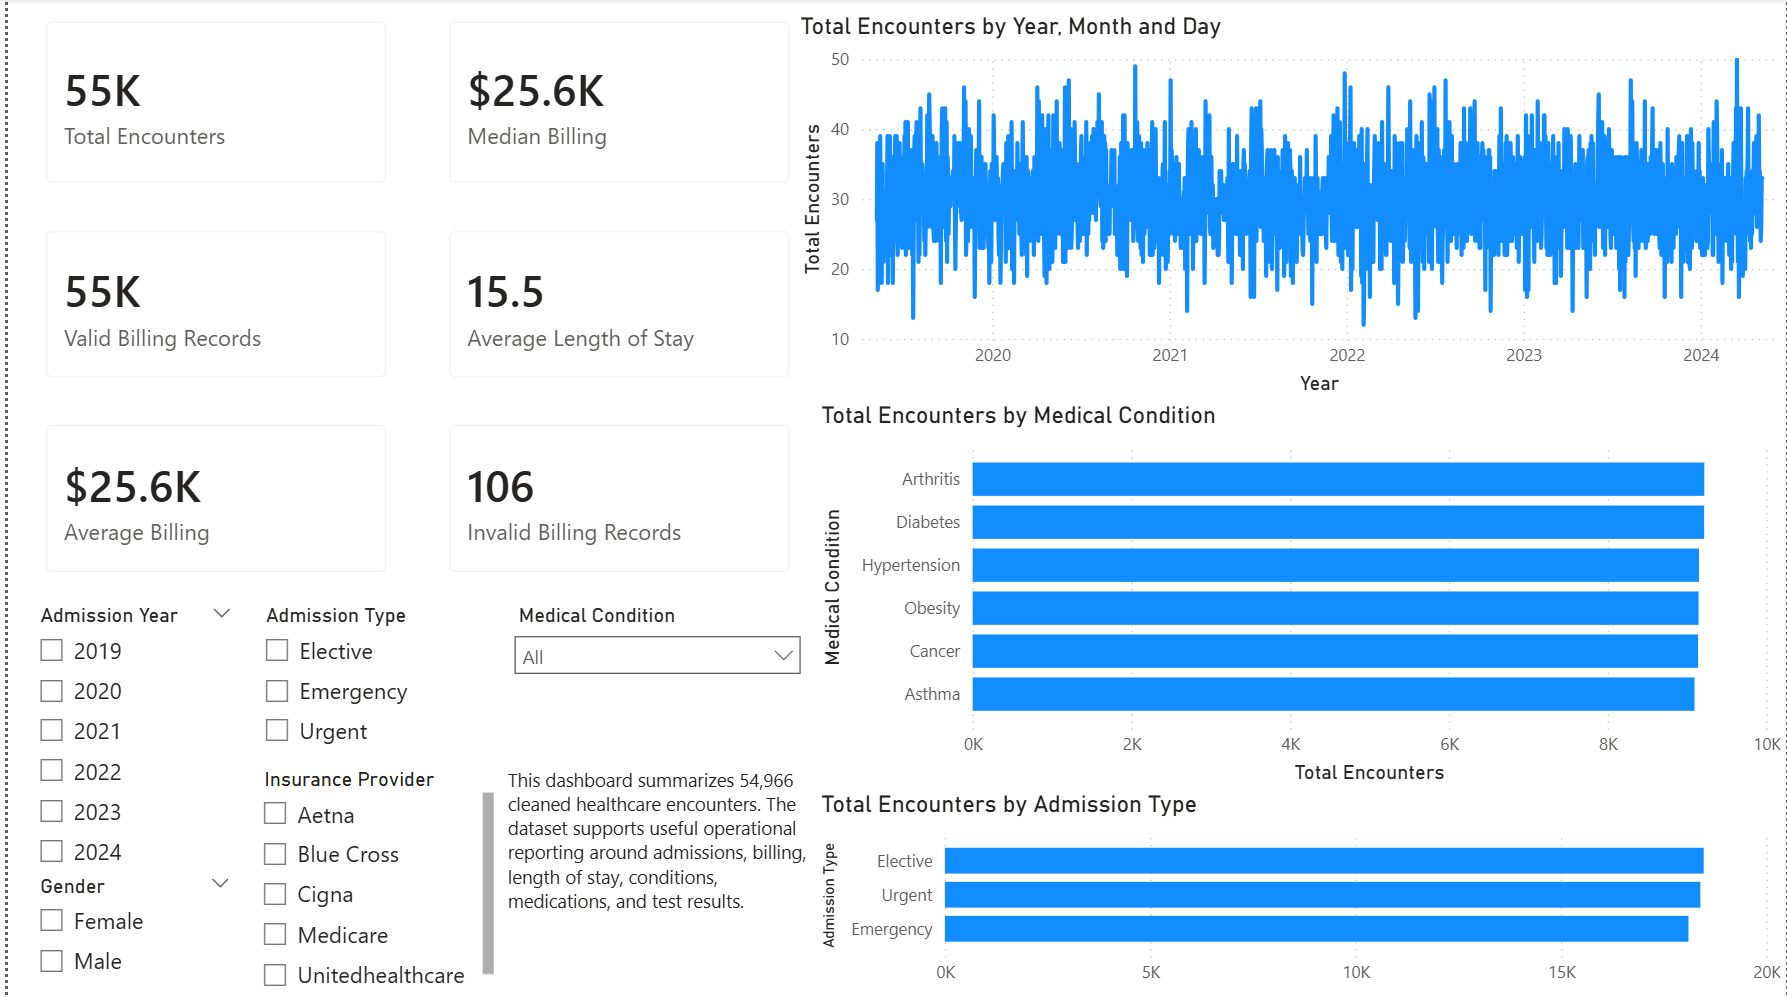

The page's visual inventory and layout, read from the dashboard file:
{"tool":"powerbi","page":{"name":"Executive Overview","canvas":[1280,720],"ordinal":0},"visuals":[{"type":"cardVisual","fields":{"Data":["Healthcare.Total Encounters"]},"box":[10.4,0,279.7,150.8],"z":0},{"type":"cardVisual","fields":{"Data":["Healthcare.Valid Billing Records"]},"box":[10.4,150.8,279.7,139.3],"z":1000},{"type":"cardVisual","fields":{"Data":["Healthcare.Average Billing"]},"box":[10.4,290.1,279.7,140.4],"z":2000},{"type":"cardVisual","fields":{"Data":["Healthcare.Median Billing"]},"box":[300.5,0,279.7,150.8],"z":3000},{"type":"cardVisual","fields":{"Data":["Healthcare.Average Length of Stay"]},"box":[300.5,150.8,279.7,139.3],"z":4000},{"type":"cardVisual","fields":{"Data":["Healthcare.Invalid Billing Records"]},"box":[300.5,290.1,279.7,140.4],"z":5000},{"type":"lineChart","fields":{"Y":["Healthcare.Total Encounters"],"Category":["Healthcare.admission_date.Variation.Date Hierarchy.Year","Healthcare.admission_date.Variation.Date Hierarchy.Month","Healthcare.admission_date.Variation.Date Hierarchy.Day"]},"box":[565.3,10.4,714.9,279.7],"z":6000},{"type":"barChart","fields":{"Category":["Healthcare.medical_condition"],"Y":["Healthcare.Total Encounters"]},"box":[580.2,290.1,699.9,279.7],"z":7000},{"type":"barChart","fields":{"Category":["Healthcare.admission_type"],"Y":["Healthcare.Total Encounters"]},"box":[580,570,700,150],"z":8000},{"type":"slicer","fields":{"Values":["Healthcare.admission_year"]},"box":[10.4,430.6,162.3,203.8],"z":9000},{"type":"slicer","fields":{"Values":["Healthcare.gender"]},"box":[10.4,625.1,161.2,94.4],"z":10000},{"type":"slicer","fields":{"Values":["Healthcare.admission_type"]},"box":[172.7,430.6,171.5,124.3],"z":11000},{"type":"slicer","fields":{"Values":["Healthcare.insurance_provider"]},"box":[171.5,548,183,171.5],"z":12000},{"type":"slicer","fields":{"Values":["Healthcare.Medical Condition"]},"box":[354.6,430.6,225.6,62.2],"z":13000},{"type":"textbox","box":[355,548,225,172],"z":13001}]}

Visuals, with their boxes in screenshot pixels (x1, y1, x2, y2), scaled from the page's 1280x720 canvas onto the 1787x997 screenshot:
cardVisual - Healthcare.Total Encounters: BBox(15, 0, 405, 209)
cardVisual - Healthcare.Valid Billing Records: BBox(15, 209, 405, 402)
cardVisual - Healthcare.Average Billing: BBox(15, 402, 405, 596)
cardVisual - Healthcare.Median Billing: BBox(420, 0, 810, 209)
cardVisual - Healthcare.Average Length of Stay: BBox(420, 209, 810, 402)
cardVisual - Healthcare.Invalid Billing Records: BBox(420, 402, 810, 596)
lineChart - Healthcare.Total Encounters x Healthcare.admission_date.Variation.Date Hierarchy.Year: BBox(789, 14, 1786, 402)
barChart - Healthcare.medical_condition x Healthcare.Total Encounters: BBox(810, 402, 1786, 789)
barChart - Healthcare.admission_type x Healthcare.Total Encounters: BBox(810, 789, 1786, 996)
slicer - Healthcare.admission_year: BBox(15, 596, 241, 878)
slicer - Healthcare.gender: BBox(15, 866, 240, 996)
slicer - Healthcare.admission_type: BBox(241, 596, 481, 768)
slicer - Healthcare.insurance_provider: BBox(239, 759, 495, 996)
slicer - Healthcare.Medical Condition: BBox(495, 596, 810, 682)
textbox: BBox(496, 759, 810, 996)
